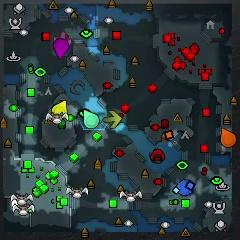p1: (174, 180, 196, 196)
p2: (83, 109, 100, 130)
p3: (53, 38, 69, 59)
p4: (51, 100, 69, 118)
p5: (220, 128, 236, 148)
x1: (51, 31, 73, 45)
x2: (104, 110, 122, 129)
